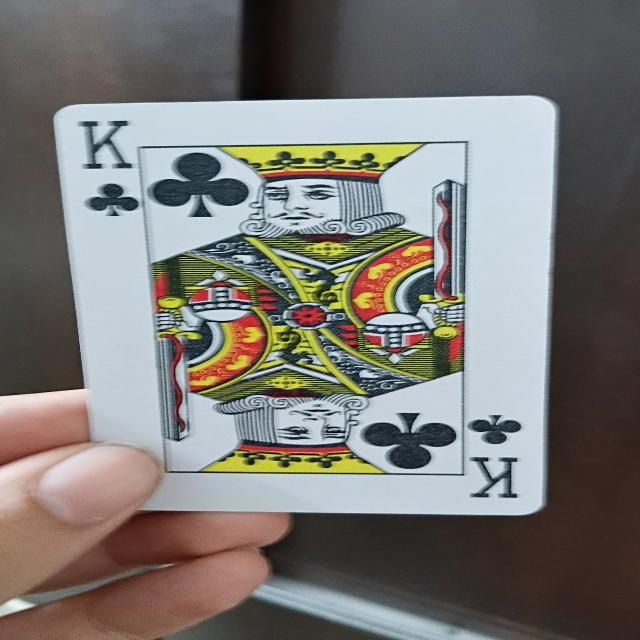KC: (48, 96, 556, 522)
